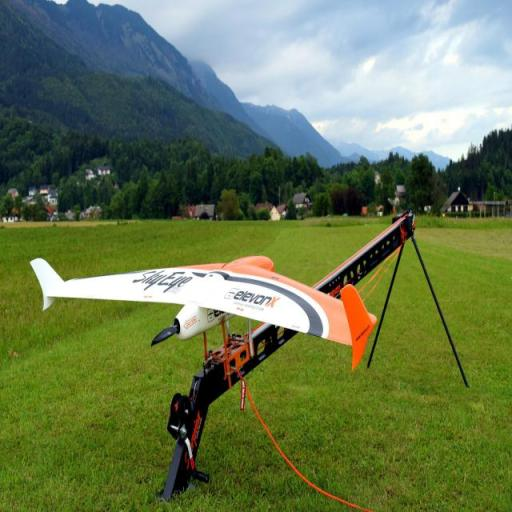uav: (30, 248, 374, 373)
